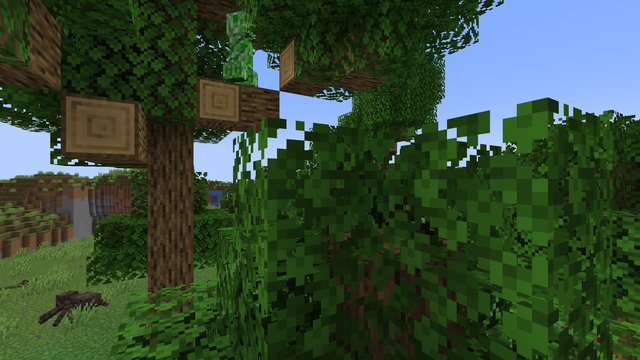araignees: (45, 285, 100, 325)
creepers: (226, 4, 256, 85)
